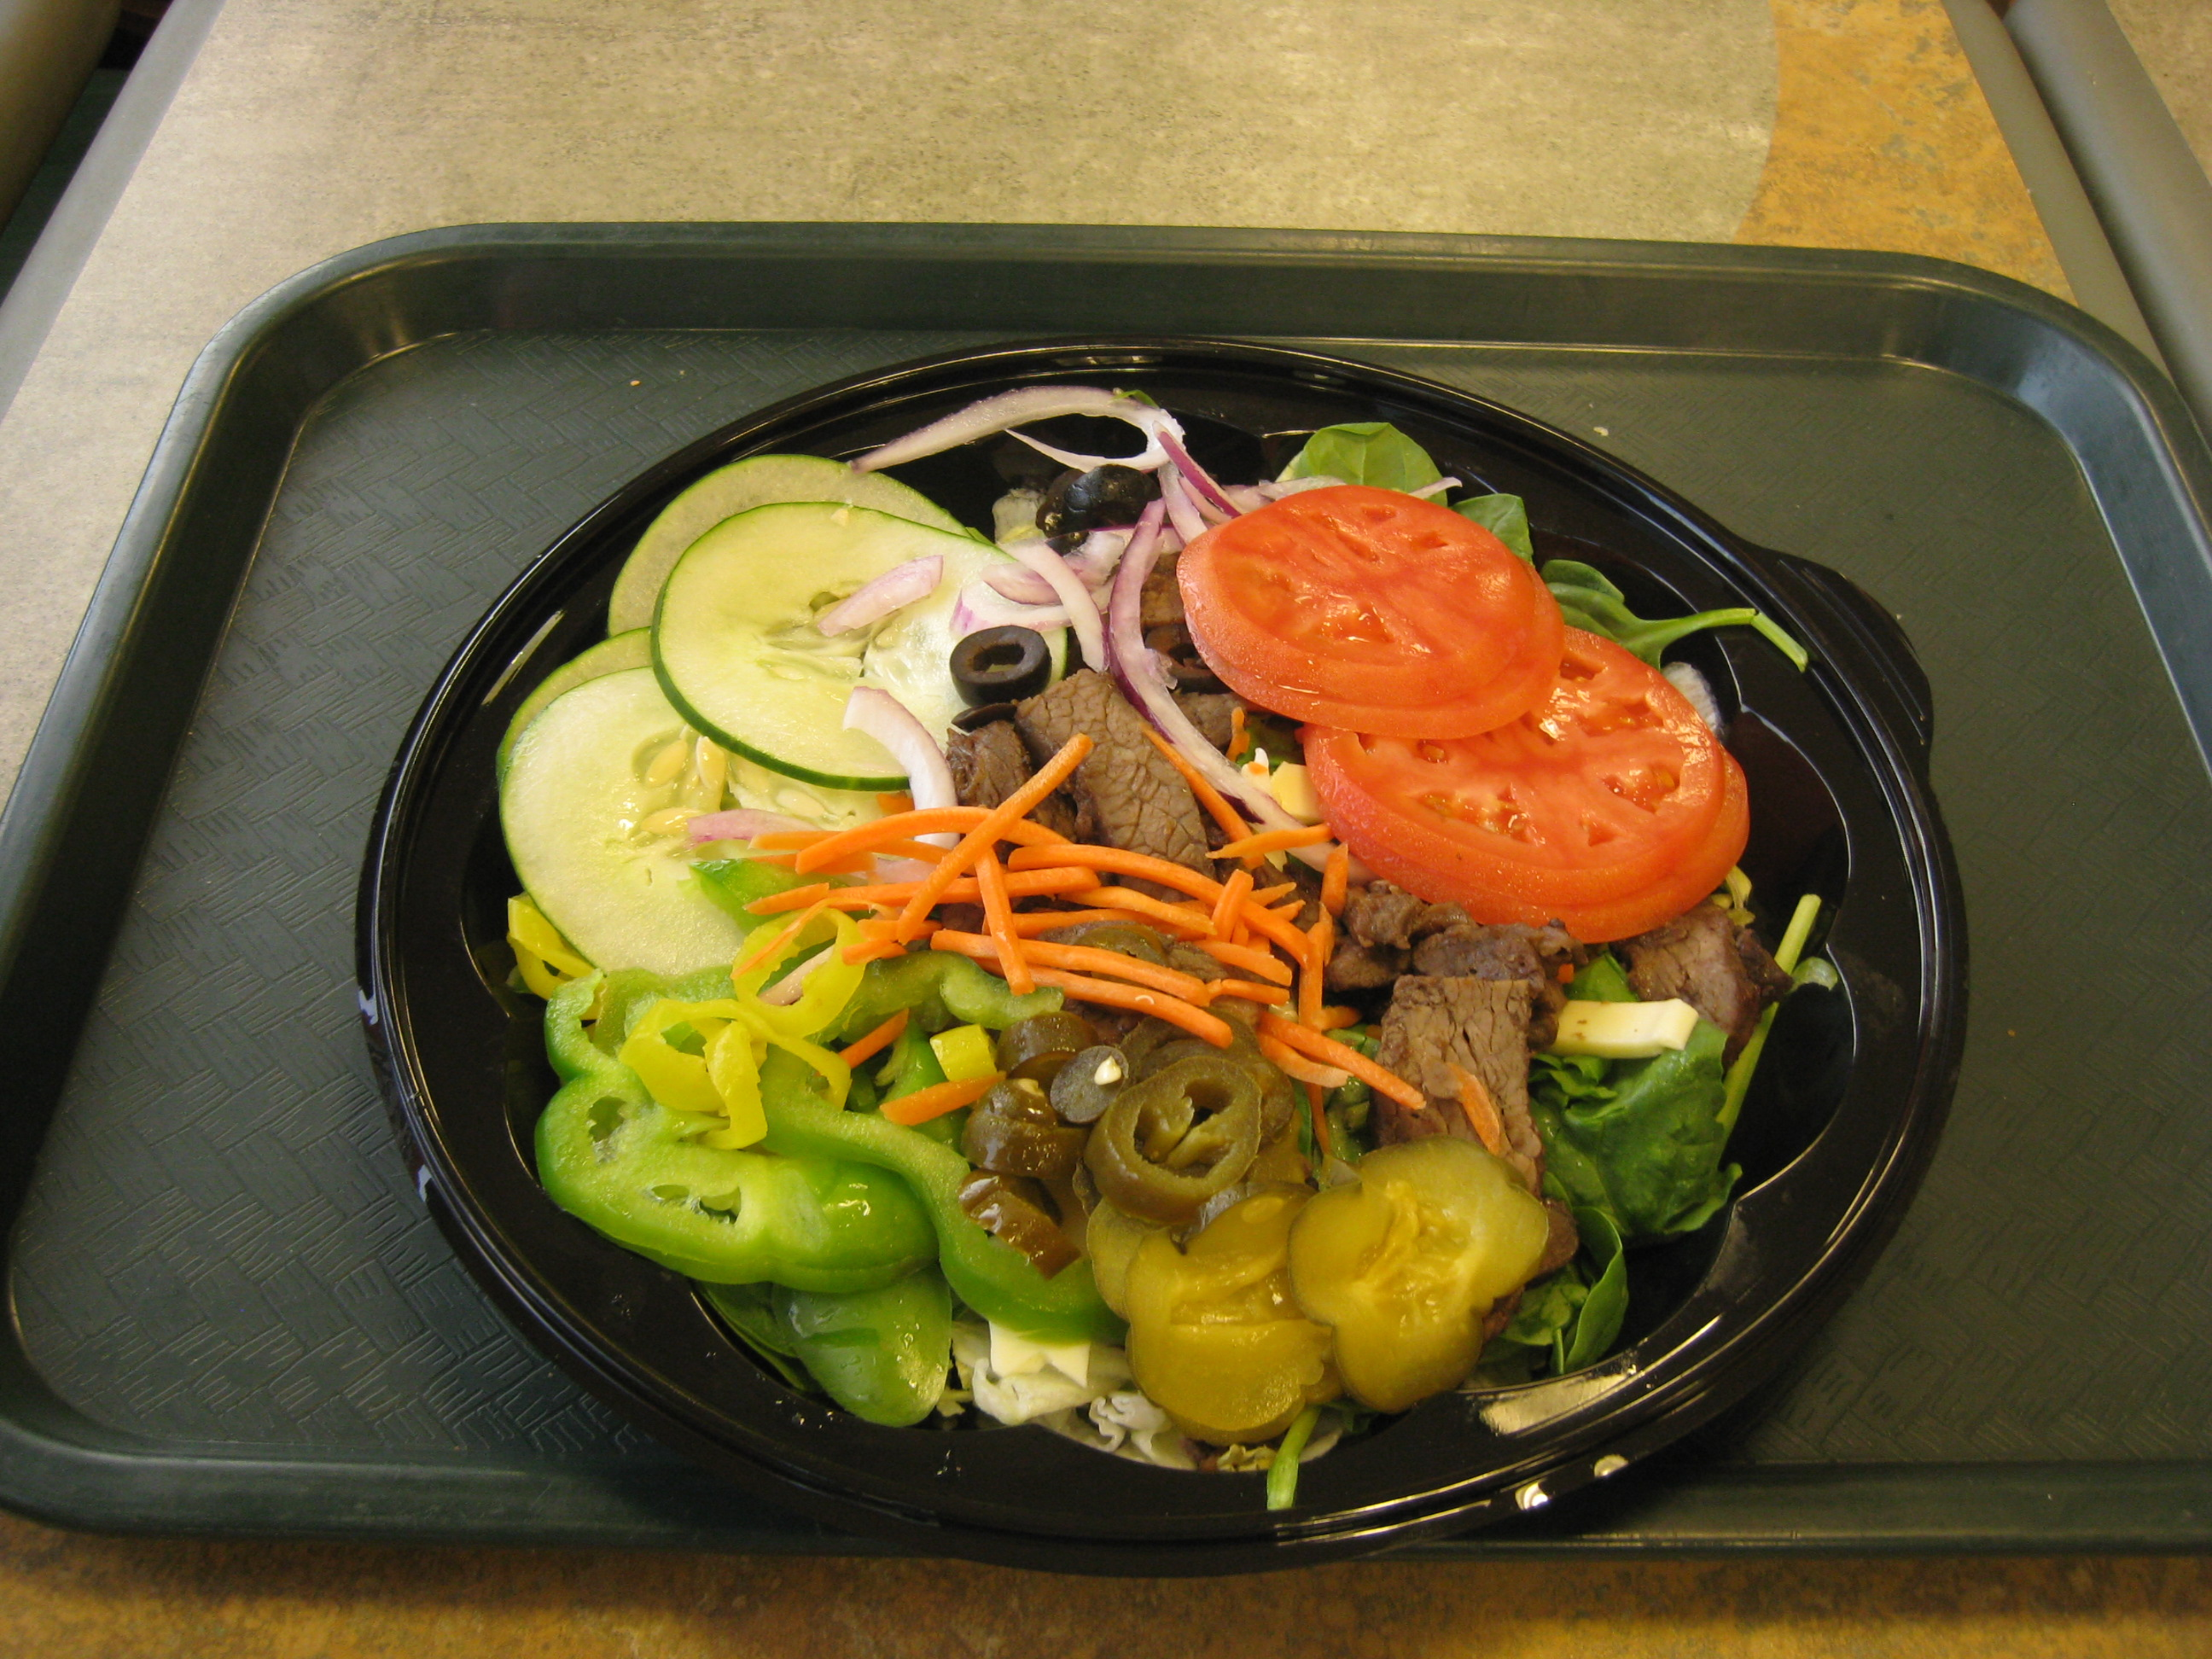salad: (473, 402, 1875, 1426)
